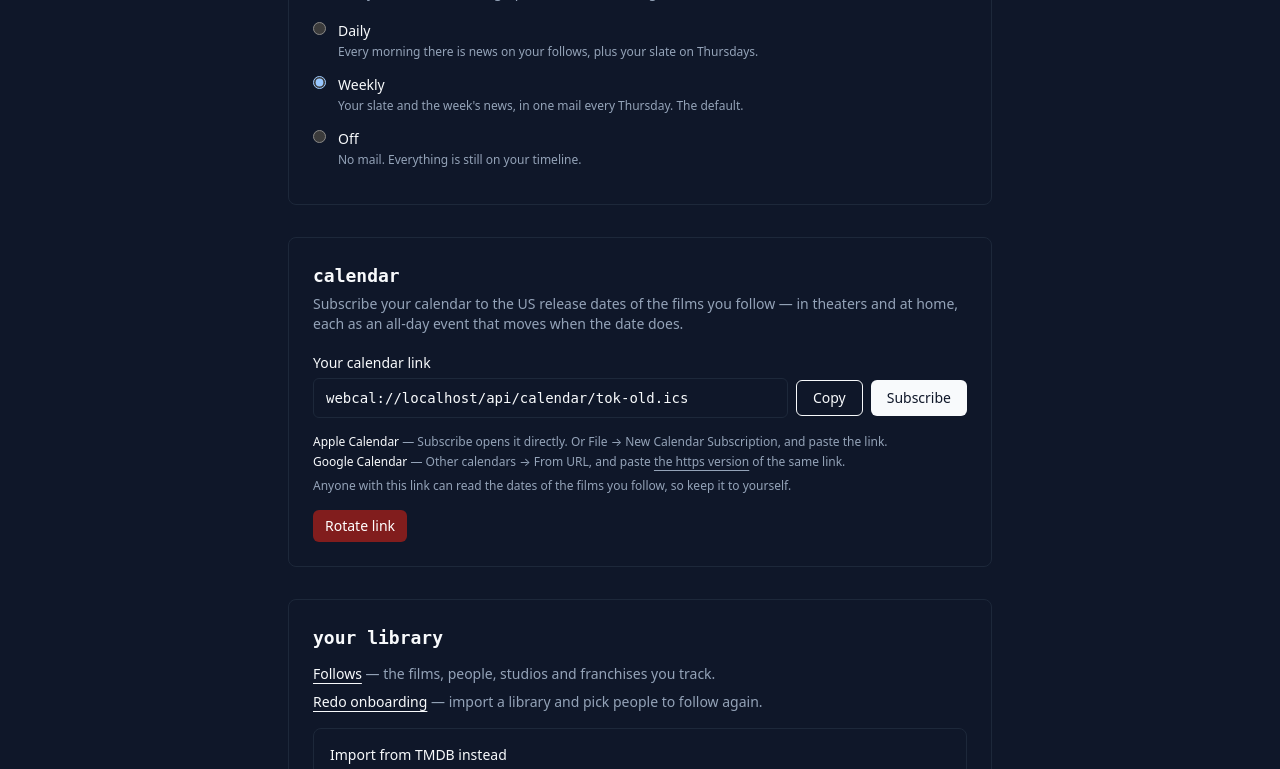
Scenario: Settings › calendar (D-34) › takes 'Copied.' back down once the link it refers to has been rotated away
(page scrolled)
Step 1. Click the button "Copy" → x=829, y=398, box [796,380,863,416]
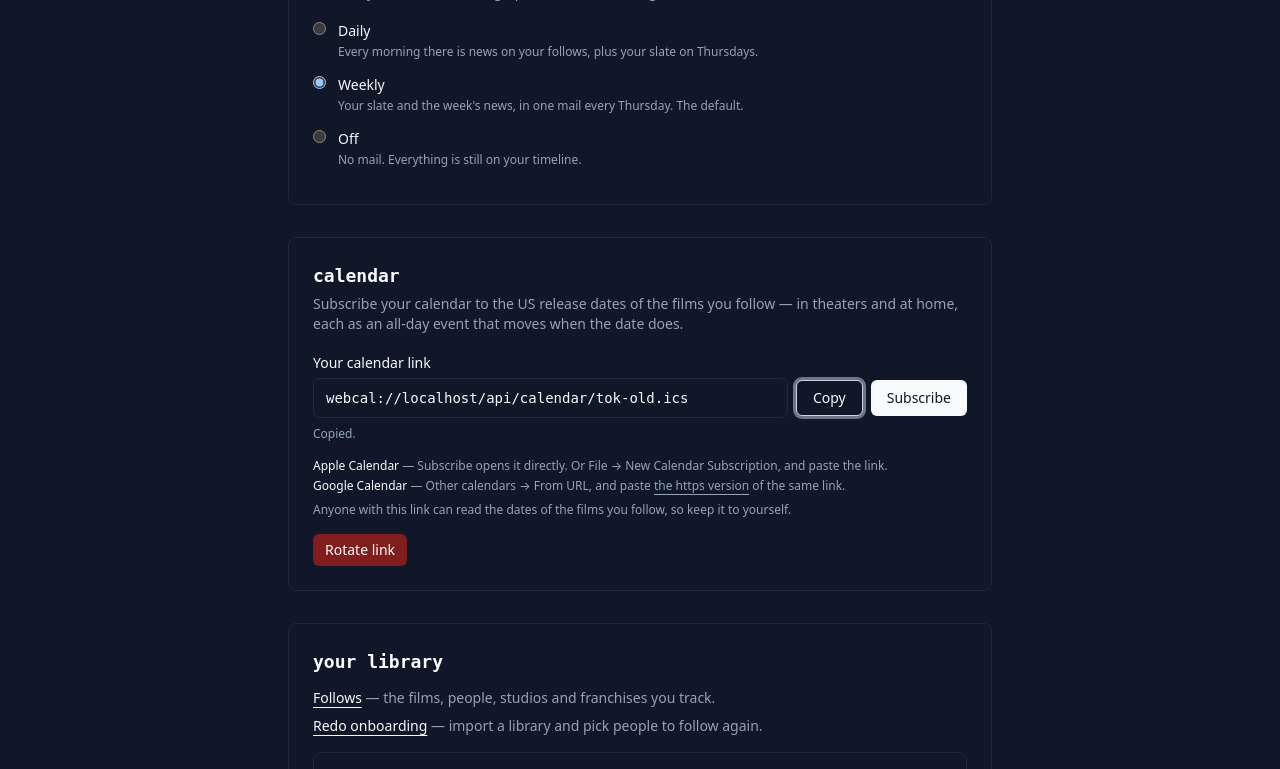
Expected: the text "Copied." is shown, [313,425,356,442]
Step 2. Click the button "Rotate link" → x=360, y=550, box [313,534,407,566]
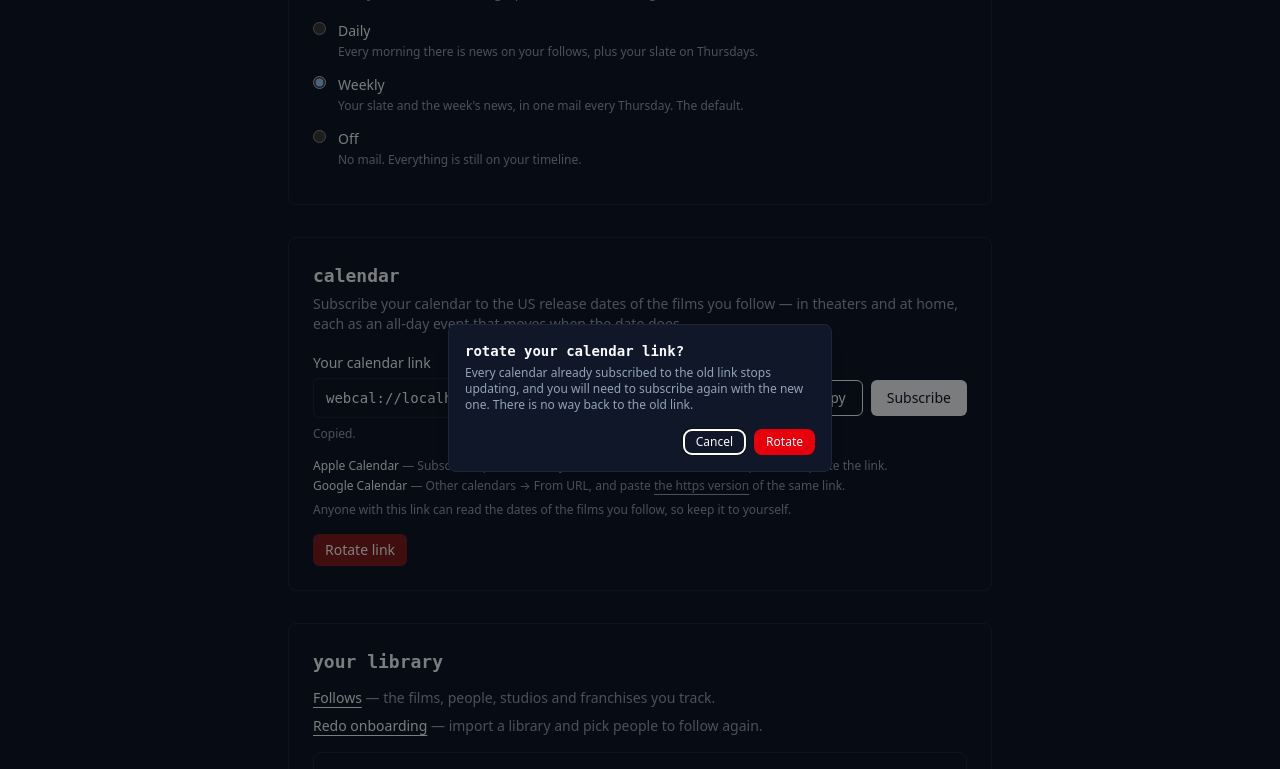
Step 3. Click the button "Rotate" → x=785, y=442, box [754,429,815,455]
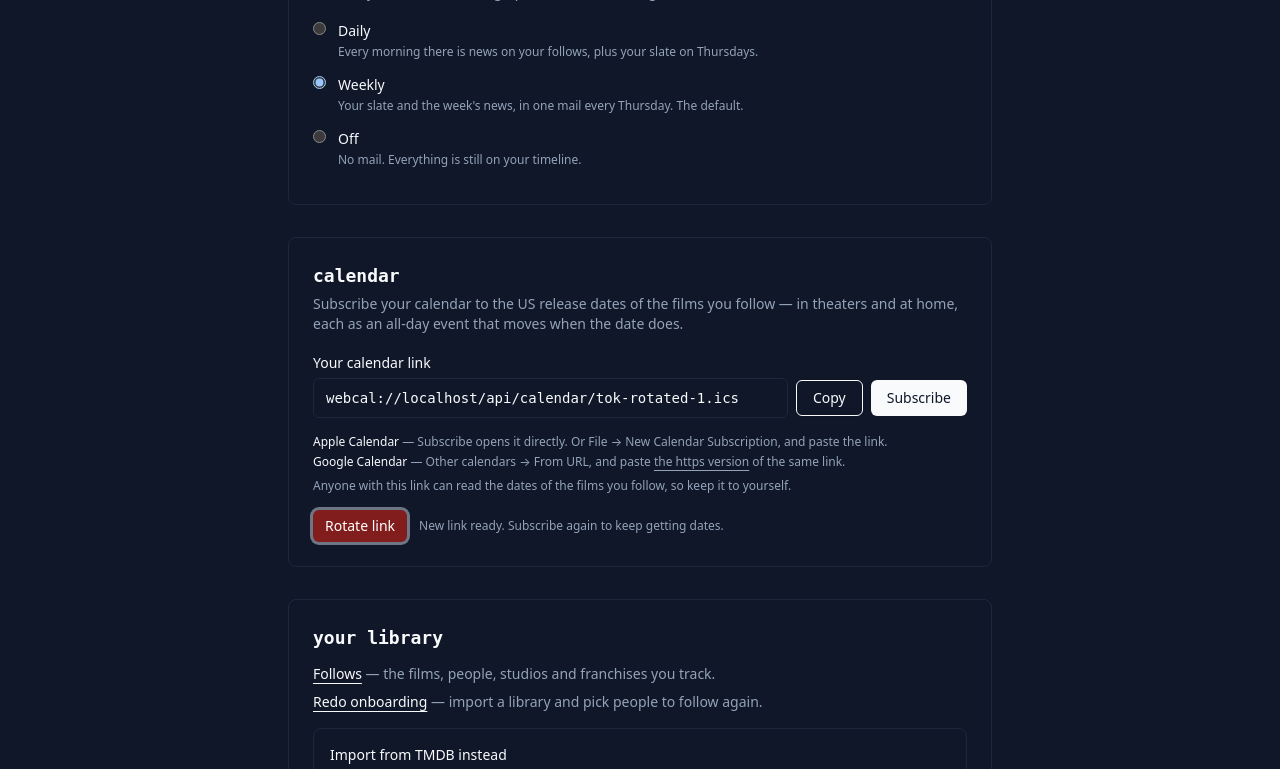
Expected: the text "Copied" is gone
